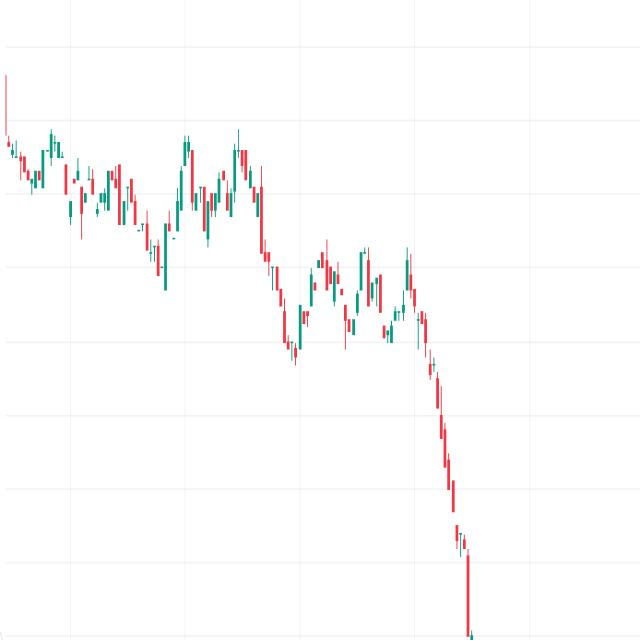Triple-Top: (286, 227, 438, 365)
